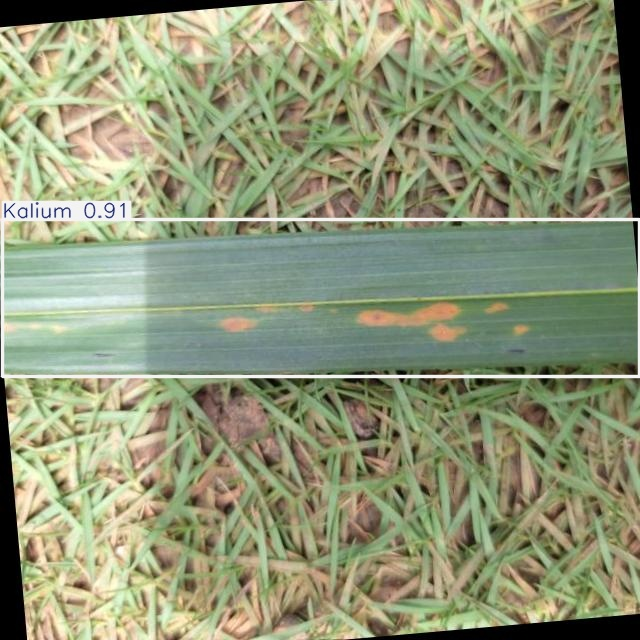Kalium: (2, 219, 640, 376)
